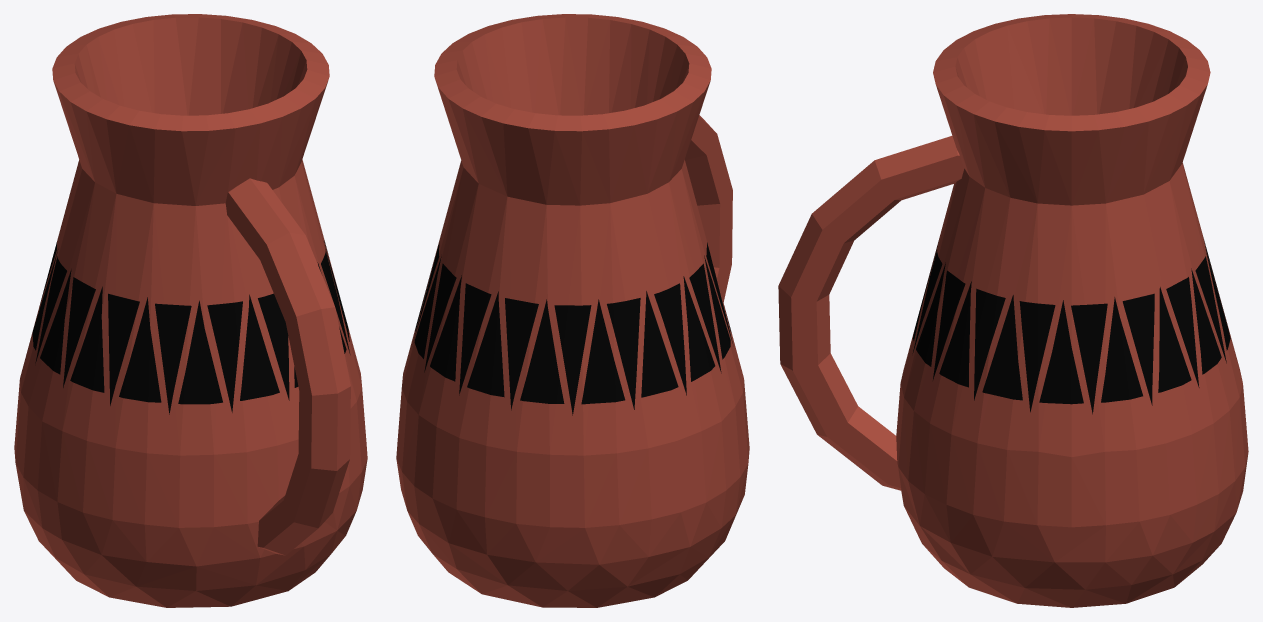
File: Pottery 24_2.fbx
3 renders of one model, left to right at view 1: azimuth 30°, elevation 25°; view 2: azimuth 150°, elevation 25°; view 3: azimuth 270°, elevation 25°, orthographic.
Visible parts, largest first — view 1: Pottery 24_2; view 2: Pottery 24_2; view 3: Pottery 24_2.
Part boxes in pixels (x1,y1,x2,y2): Pottery 24_2: [14, 14, 367, 607]; Pottery 24_2: [396, 14, 749, 607]; Pottery 24_2: [778, 14, 1248, 607].
Bounding box in the file's own units: 30.34 × 45.97 × 40.35.
